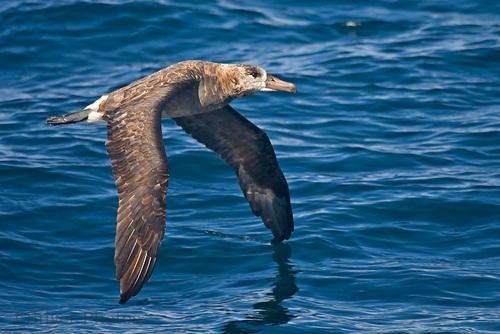bird: (45, 58, 298, 301)
